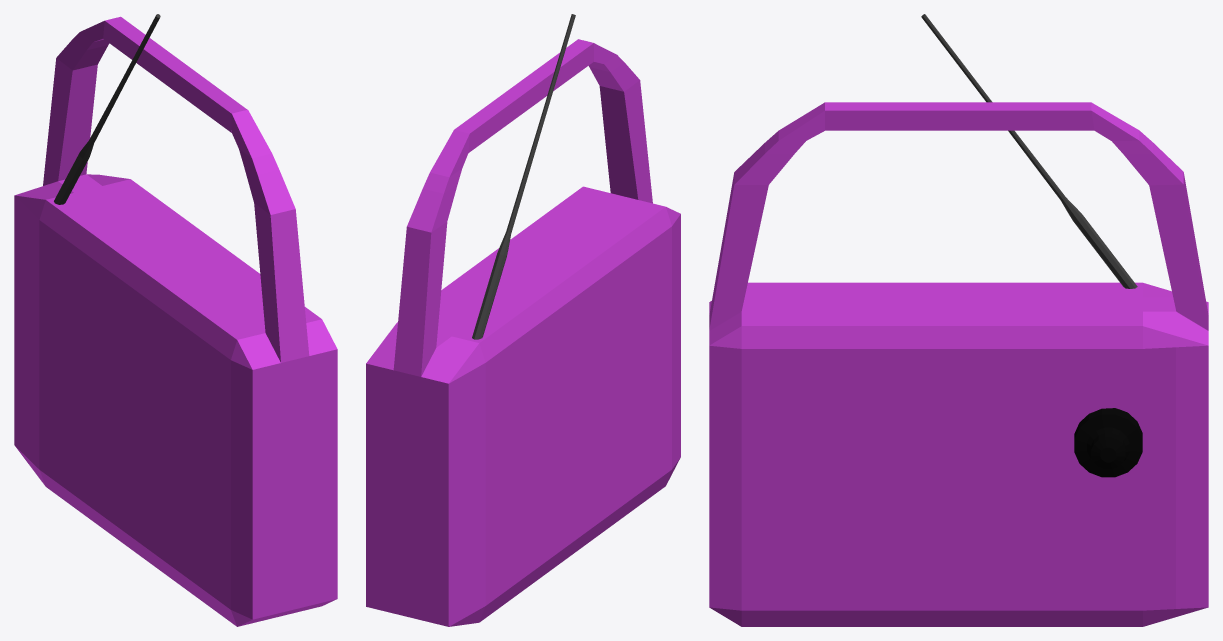
The model's file is radio.fbx.
3 views of the same model, side by side, from view 1: azimuth 30°, elevation 25°; view 2: azimuth 150°, elevation 25°; view 3: azimuth 270°, elevation 25° (orthographic). The views are drawn at different scales.
Visible parts, largest first — view 1: Cube, Cylinder.001; view 2: Cube, Cylinder.001; view 3: Cube, Cylinder, Cylinder.001.
Part boxes in pixels (box(x1,y1,x2,y2)): Cube: box(14, 16, 337, 626); Cylinder.001: box(54, 14, 160, 204); Cube: box(366, 39, 680, 626); Cylinder.001: box(472, 14, 575, 339); Cube: box(709, 102, 1208, 626); Cylinder: box(1074, 408, 1142, 477); Cylinder.001: box(921, 14, 1137, 288).
Size of the model in its own units: 34.47 by 142 by 112.
